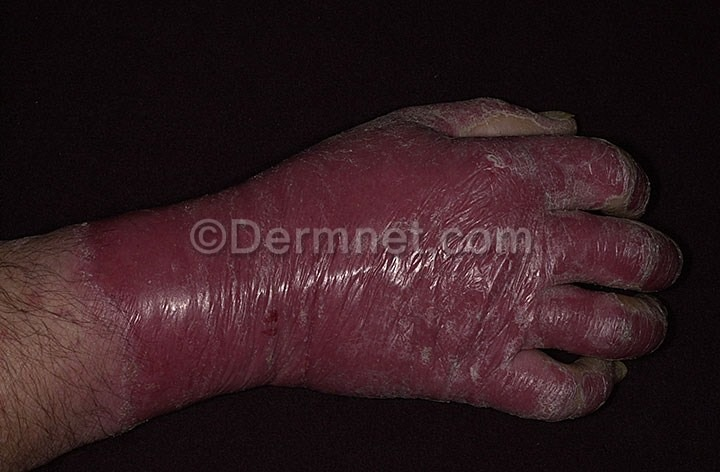Psoriasis: (87, 219, 530, 375), (365, 123, 604, 221), (535, 222, 671, 285), (536, 289, 656, 351), (253, 162, 370, 216), (535, 361, 620, 415)
